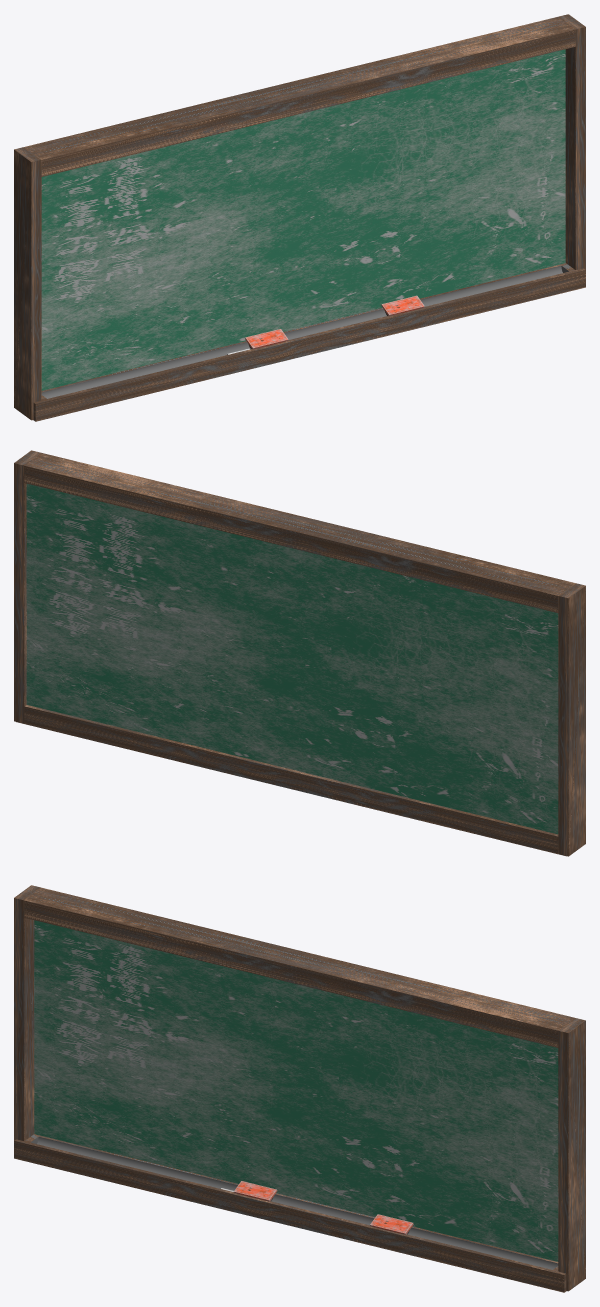
Rendered from board.fbx.
3 renders of one model, top to bottom at view 1: azimuth 30°, elevation 25°; view 2: azimuth 150°, elevation 25°; view 3: azimuth 330°, elevation 25°, orthographic.
Parts seen in each view (by area): view 1: blackboard, wood0011, Box002, Box001; view 2: blackboard, wood0011; view 3: blackboard, wood0011, Box002, Box001.
Boxes of the visible parts, left/top/right/bottom form: blackboard: left=41, top=49, right=565, bottom=390; wood0011: left=14, top=14, right=585, bottom=421; Box002: left=381, top=295, right=424, bottom=316; Box001: left=245, top=329, right=288, bottom=349; blackboard: left=26, top=483, right=558, bottom=834; wood0011: left=14, top=450, right=585, bottom=856; blackboard: left=34, top=920, right=558, bottom=1261; wood0011: left=14, top=885, right=585, bottom=1292; Box002: left=370, top=1214, right=413, bottom=1234; Box001: left=234, top=1181, right=277, bottom=1201.
Bounding box in the file's own units: 31154 × 13883 × 1891.
